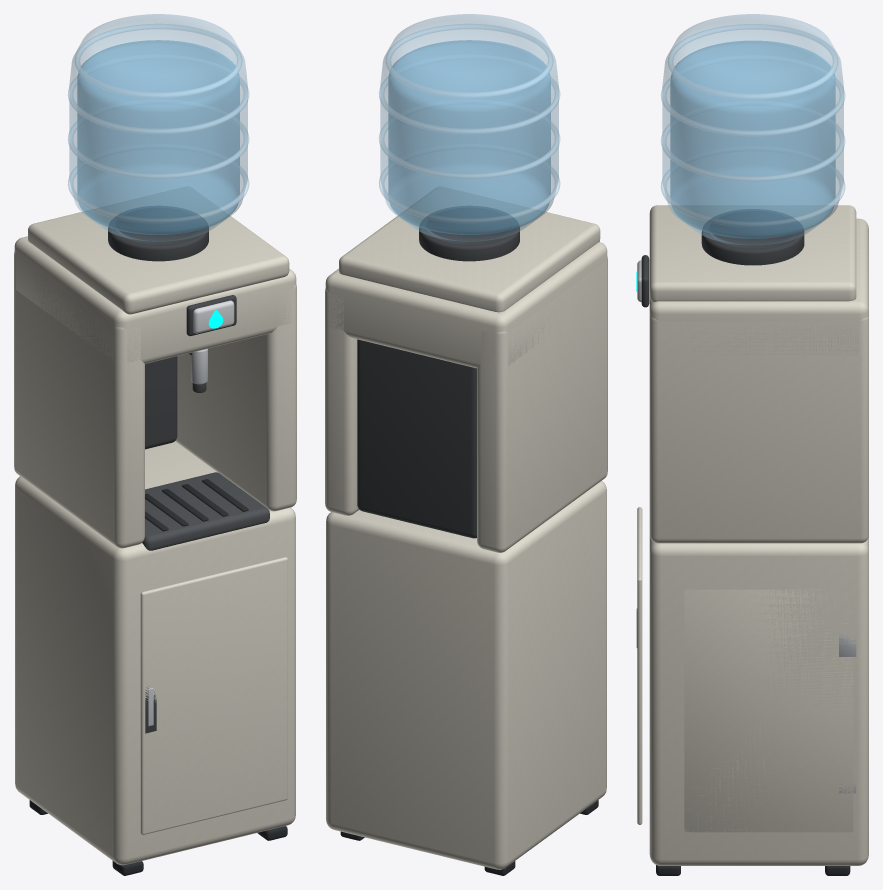
File: CreamFloorWaterDispenser_340x372x1400mm.fbx
3 views of the same model, side by side, from view 1: azimuth 30°, elevation 25°; view 2: azimuth 150°, elevation 25°; view 3: azimuth 270°, elevation 25° (orthographic).
Parts seen in each view (by area): view 1: WaterDispenser_LowerCabinet, WaterDispenser_BottleShell, WaterDispenser_LowerDoor, WaterDispenser_BottleWater, WaterDispenser_LeftPillar, WaterDispenser_RightPillar, WaterDispenser_BottleDeck, WaterDispenser_TopBridge, WaterDispenser_DripTrayBase, WaterDispenser_BottleSocket, WaterDispenser_CavityBack, WaterDispenser_BottleRib_03 (+6 smaller); view 2: WaterDispenser_LowerCabinet, WaterDispenser_BottleShell, WaterDispenser_BottleWater, WaterDispenser_LeftPillar, WaterDispenser_CavityBack, WaterDispenser_BottleDeck, WaterDispenser_TopBridge, WaterDispenser_RightPillar, WaterDispenser_BottleSocket, WaterDispenser_BottleRib_03, WaterDispenser_BottleRib_01, WaterDispenser_BottleRib_00 (+1 smaller); view 3: WaterDispenser_RightPillar, WaterDispenser_LowerCabinet, WaterDispenser_ServicePanel, WaterDispenser_BottleShell, WaterDispenser_BottleWater, WaterDispenser_BottleDeck, WaterDispenser_TopBridge, WaterDispenser_BottleSocket, WaterDispenser_BottleRib_03, WaterDispenser_LowerDoor, WaterDispenser_BottleRib_00, WaterDispenser_BottleRib_01 (+1 smaller).
Boxes of the visible parts, <box> form: WaterDispenser_LowerCabinet: <box>15,441,295,865</box>; WaterDispenser_BottleShell: <box>69,14,247,243</box>; WaterDispenser_LowerDoor: <box>140,557,287,834</box>; WaterDispenser_BottleWater: <box>77,40,239,234</box>; WaterDispenser_LeftPillar: <box>14,252,144,548</box>; WaterDispenser_RightPillar: <box>175,284,296,511</box>; WaterDispenser_BottleDeck: <box>28,187,289,314</box>; WaterDispenser_TopBridge: <box>14,236,296,363</box>; WaterDispenser_DripTrayBase: <box>142,472,269,550</box>; WaterDispenser_BottleSocket: <box>108,206,208,261</box>; WaterDispenser_CavityBack: <box>145,356,177,449</box>; WaterDispenser_BottleRib_03: <box>75,24,242,97</box>; WaterDispenser_LowerCabinet: <box>326,481,606,869</box>; WaterDispenser_BottleShell: <box>380,14,558,243</box>; WaterDispenser_BottleWater: <box>388,40,550,234</box>; WaterDispenser_LeftPillar: <box>477,256,607,552</box>; WaterDispenser_CavityBack: <box>357,339,476,538</box>; WaterDispenser_BottleDeck: <box>339,187,600,312</box>; WaterDispenser_TopBridge: <box>325,242,607,368</box>; WaterDispenser_RightPillar: <box>325,288,359,515</box>; WaterDispenser_BottleSocket: <box>419,206,519,261</box>; WaterDispenser_BottleRib_03: <box>386,24,553,97</box>; WaterDispenser_BottleRib_01: <box>379,122,559,178</box>; WaterDispenser_BottleRib_00: <box>379,166,559,223</box>; WaterDispenser_RightPillar: <box>649,317,868,543</box>; WaterDispenser_LowerCabinet: <box>649,535,868,865</box>; WaterDispenser_ServicePanel: <box>684,589,853,832</box>; WaterDispenser_BottleShell: <box>662,14,843,247</box>; WaterDispenser_BottleWater: <box>670,40,835,238</box>; WaterDispenser_BottleDeck: <box>649,205,856,302</box>; WaterDispenser_TopBridge: <box>649,218,868,355</box>; WaterDispenser_BottleSocket: <box>701,209,804,265</box>; WaterDispenser_BottleRib_03: <box>668,24,838,98</box>; WaterDispenser_LowerDoor: <box>637,507,642,824</box>; WaterDispenser_BottleRib_00: <box>661,169,844,226</box>; WaterDispenser_BottleRib_01: <box>661,124,844,181</box>.
Size of the model in its own units: 0.34 by 1.4 by 0.372.
9 materials, 1 textured.
